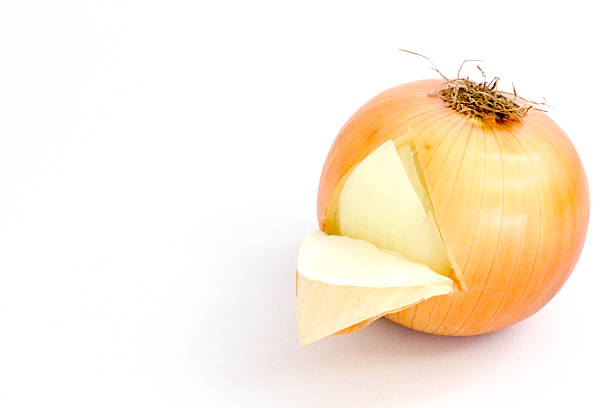onion: (274, 18, 592, 350)
